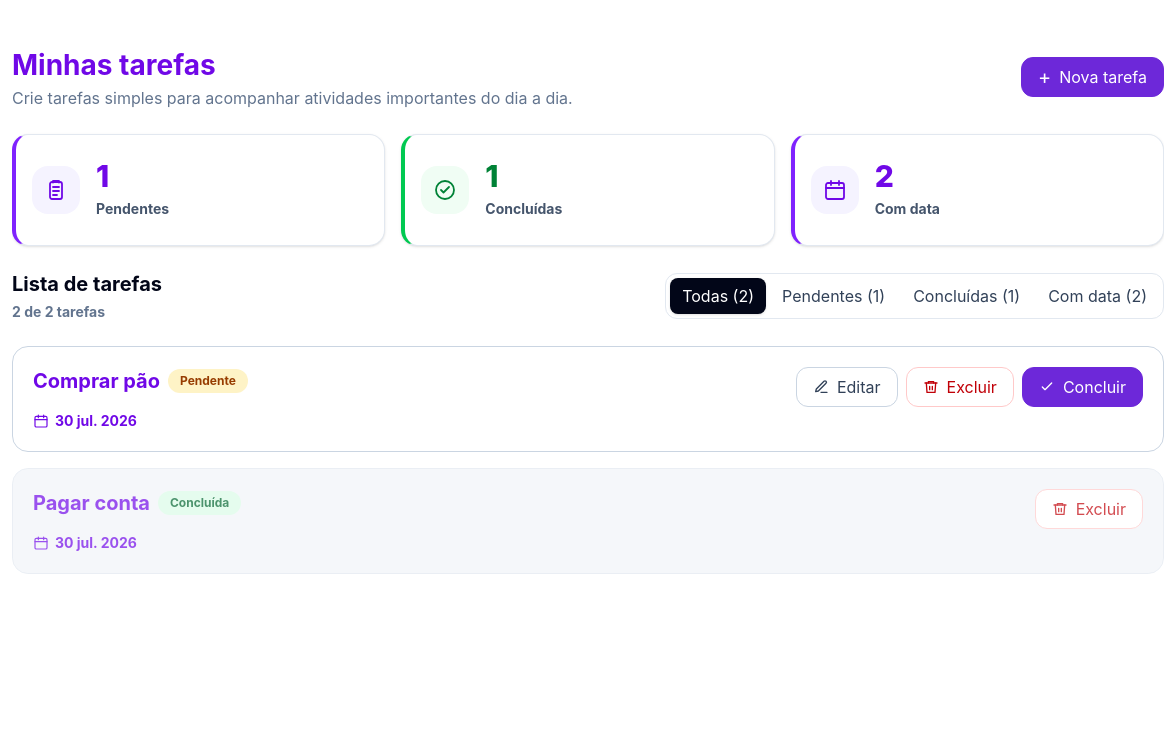
TaskPage integration › abre o formulário, cria uma tarefa e volta à lista
The image size is (1176, 732).
Click the button "+ Nova tarefa": [1092, 77] box 1021,57 -> 1164,97
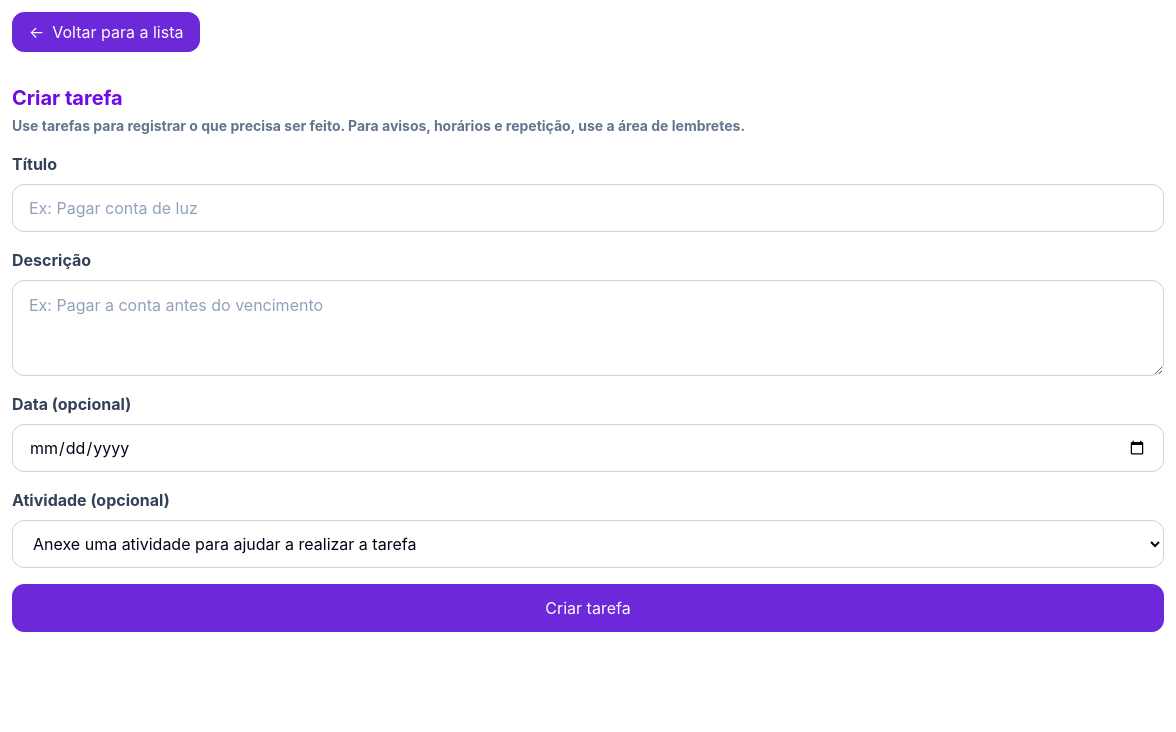
In the field labelled "Título": [588, 208] box 12,184 -> 1164,232, type "Agendar consulta"
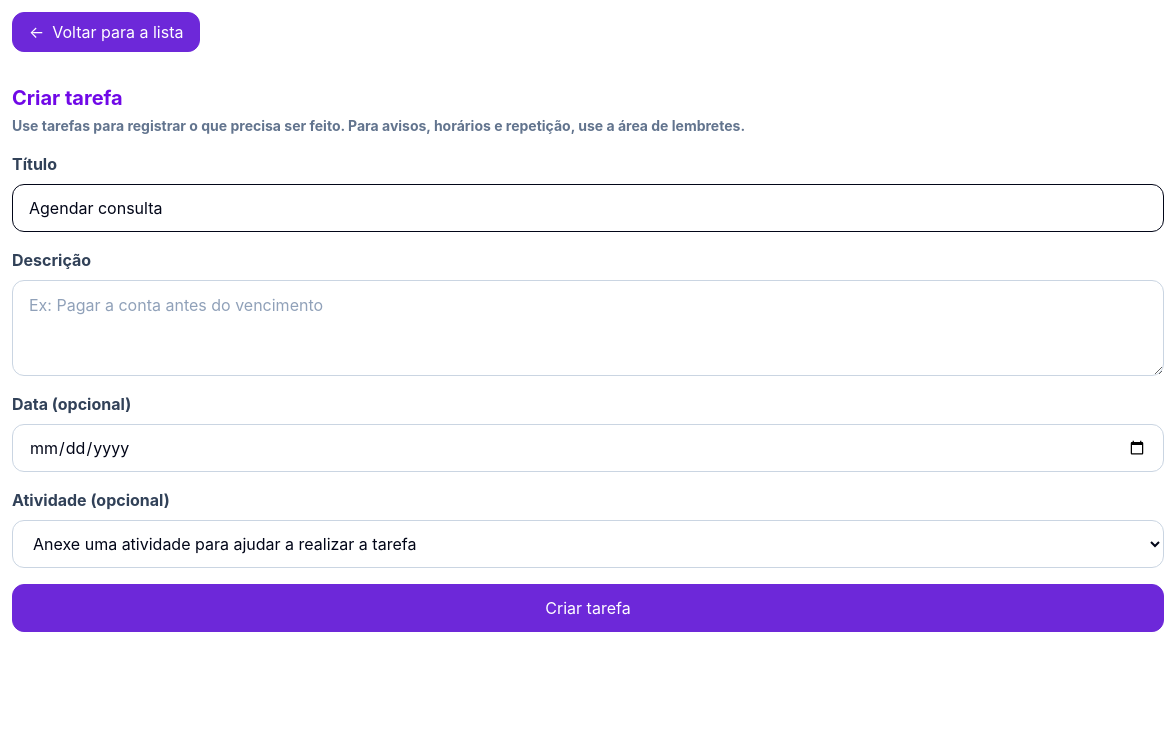
Click the button "Criar tarefa": [588, 608] box 12,584 -> 1164,632
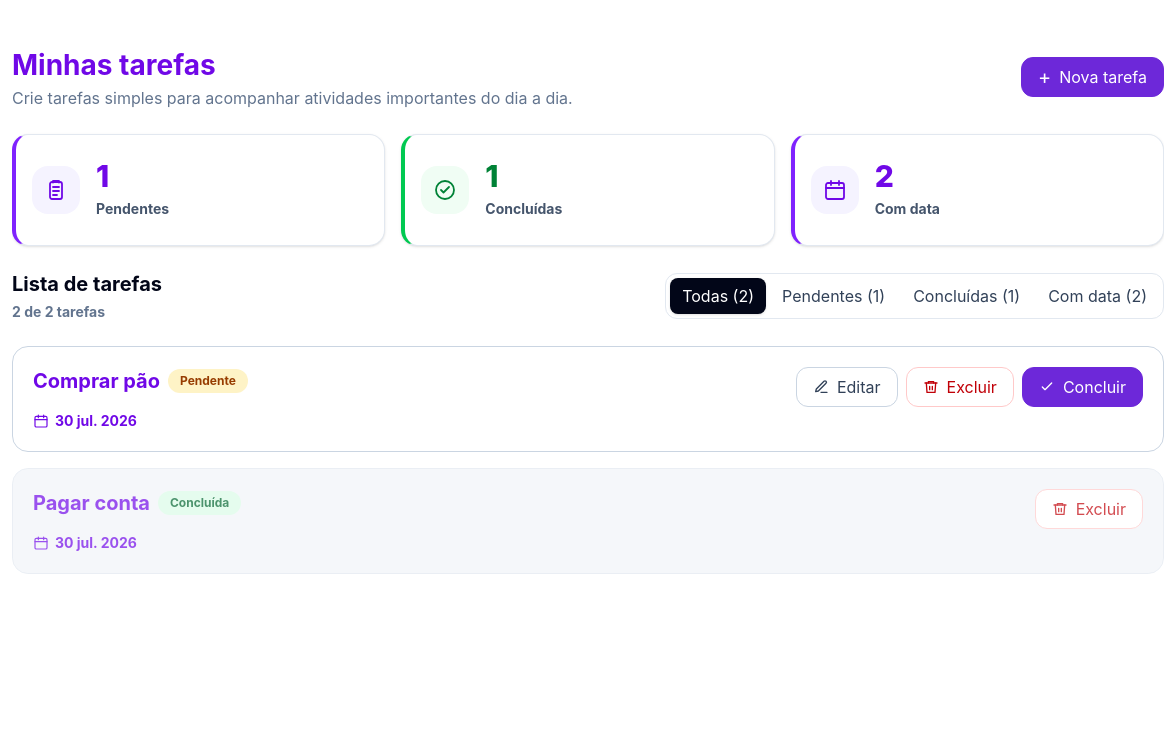
expect the heading "Minhas tarefas" is shown: met, box 12,48 -> 216,82
